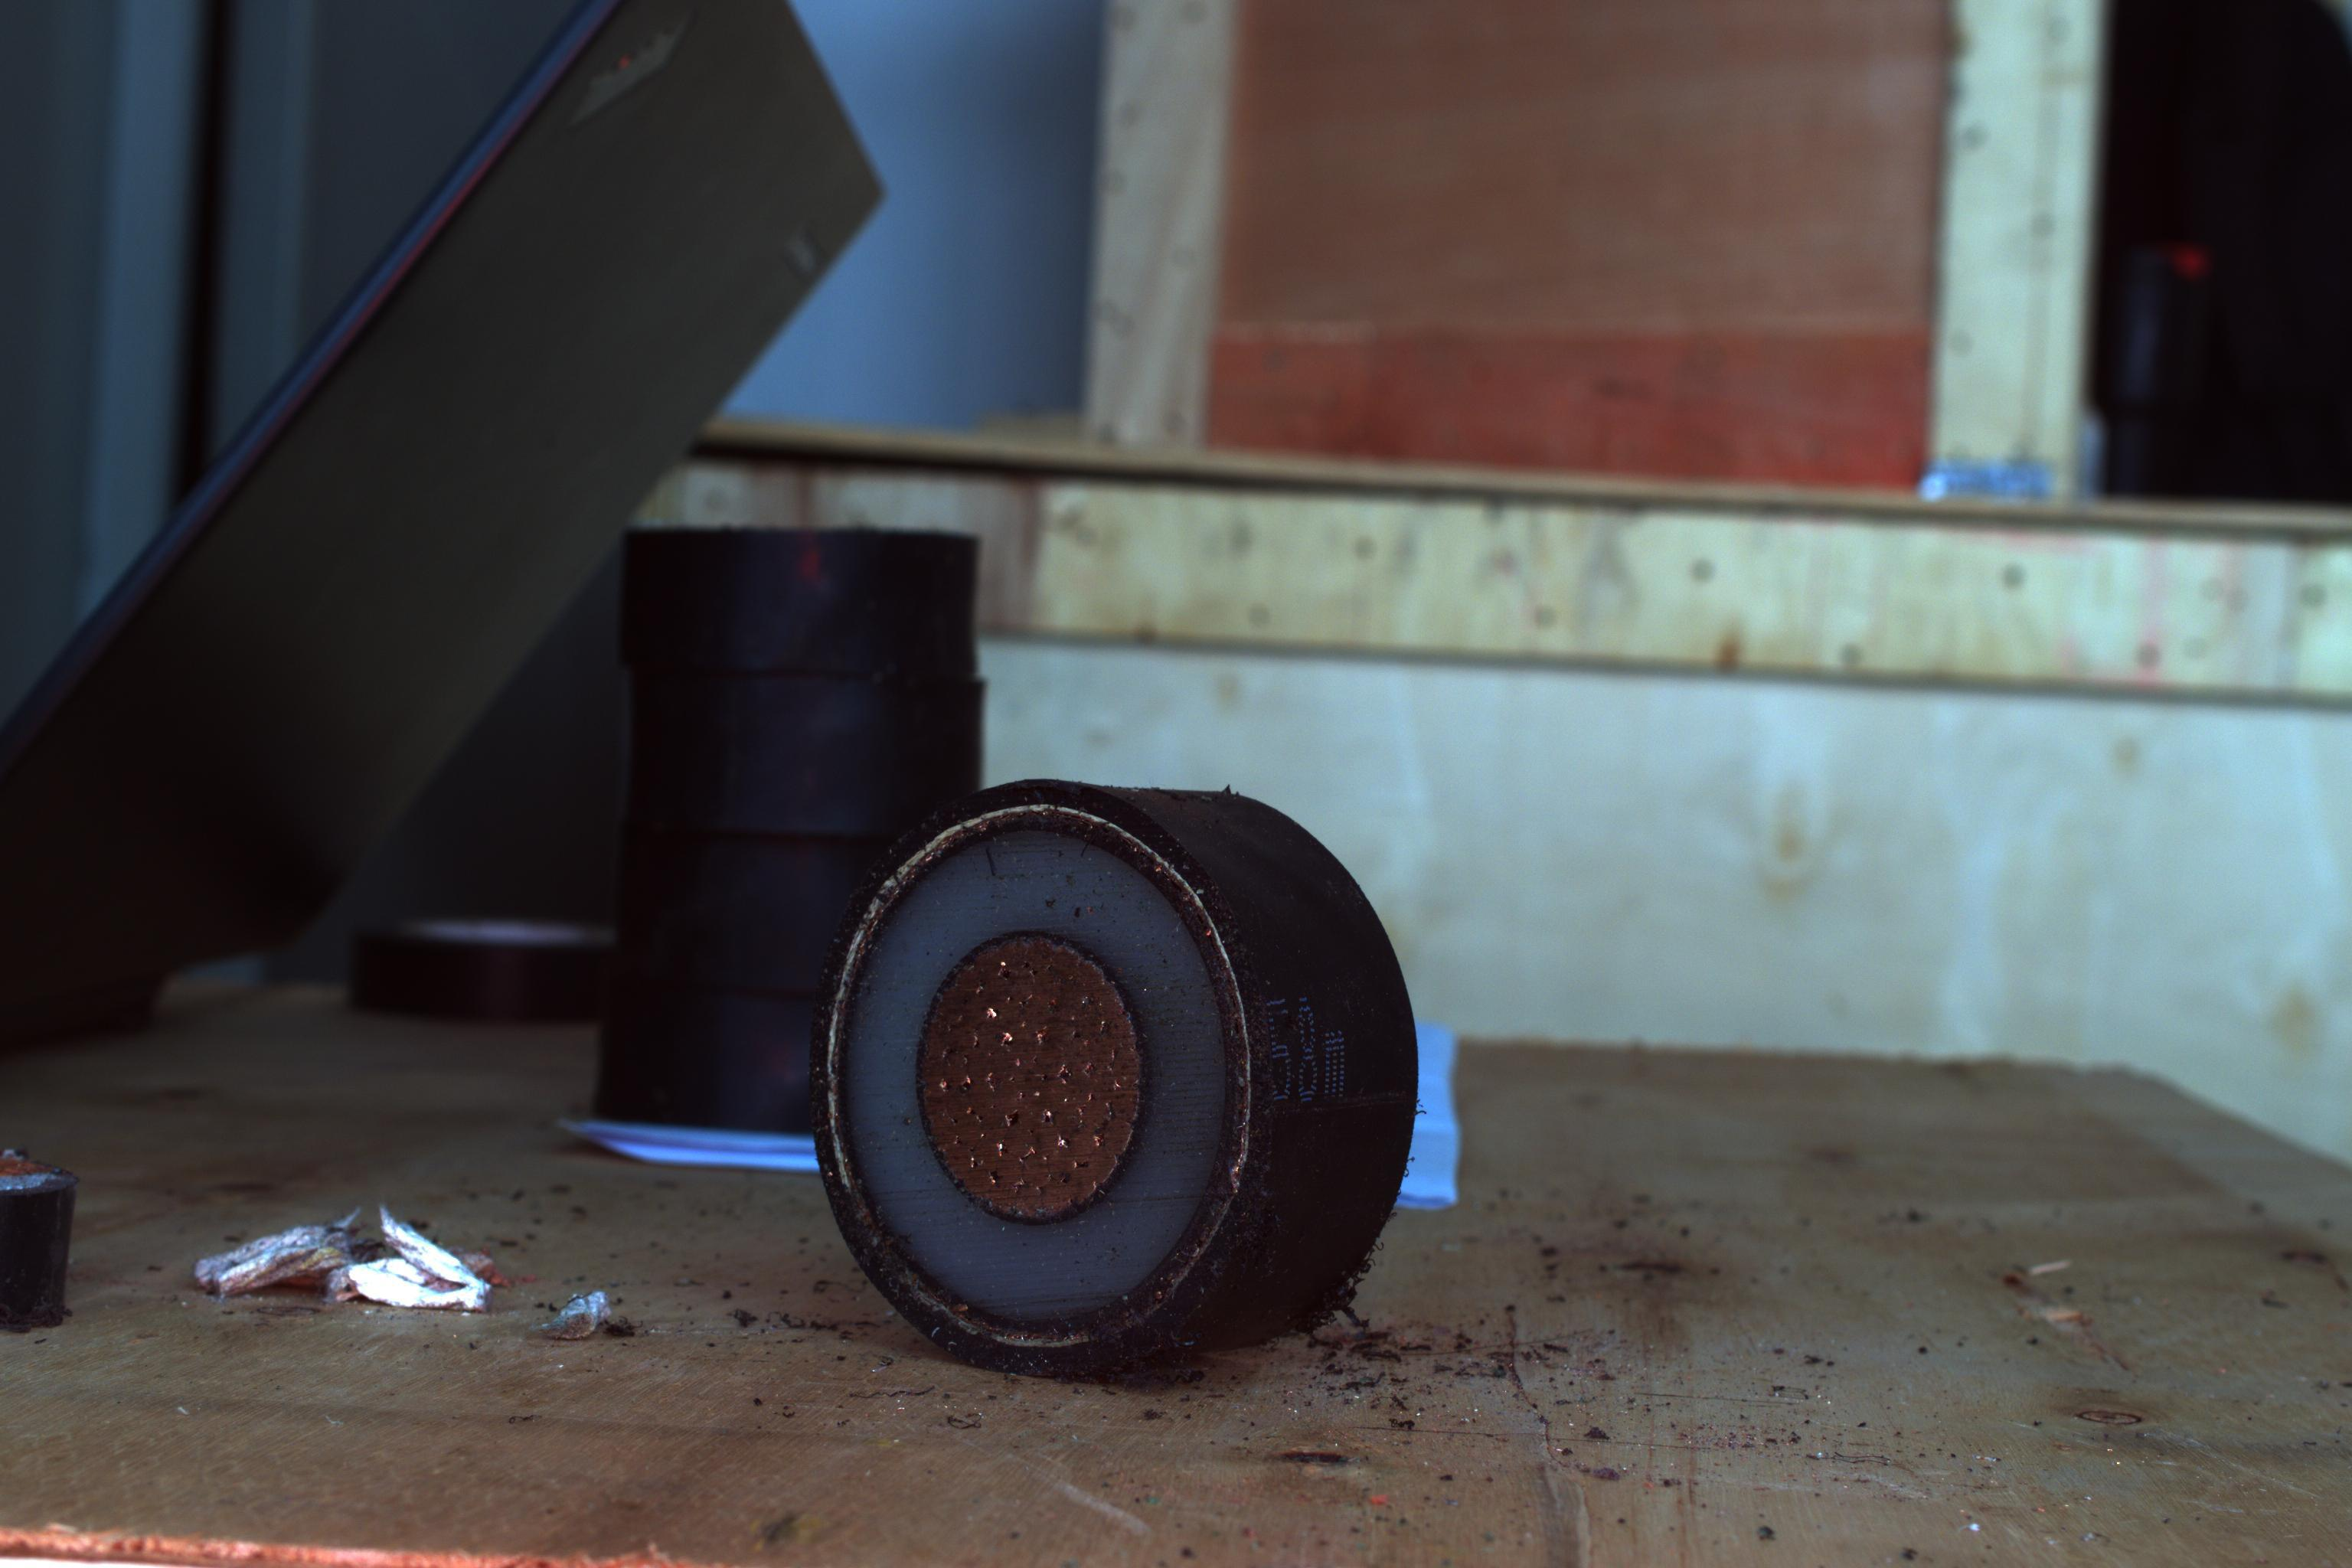YJV_26_35kV_1x630: (831, 805, 1269, 1386)
